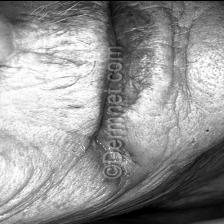Toxin: (74, 130, 142, 194)
